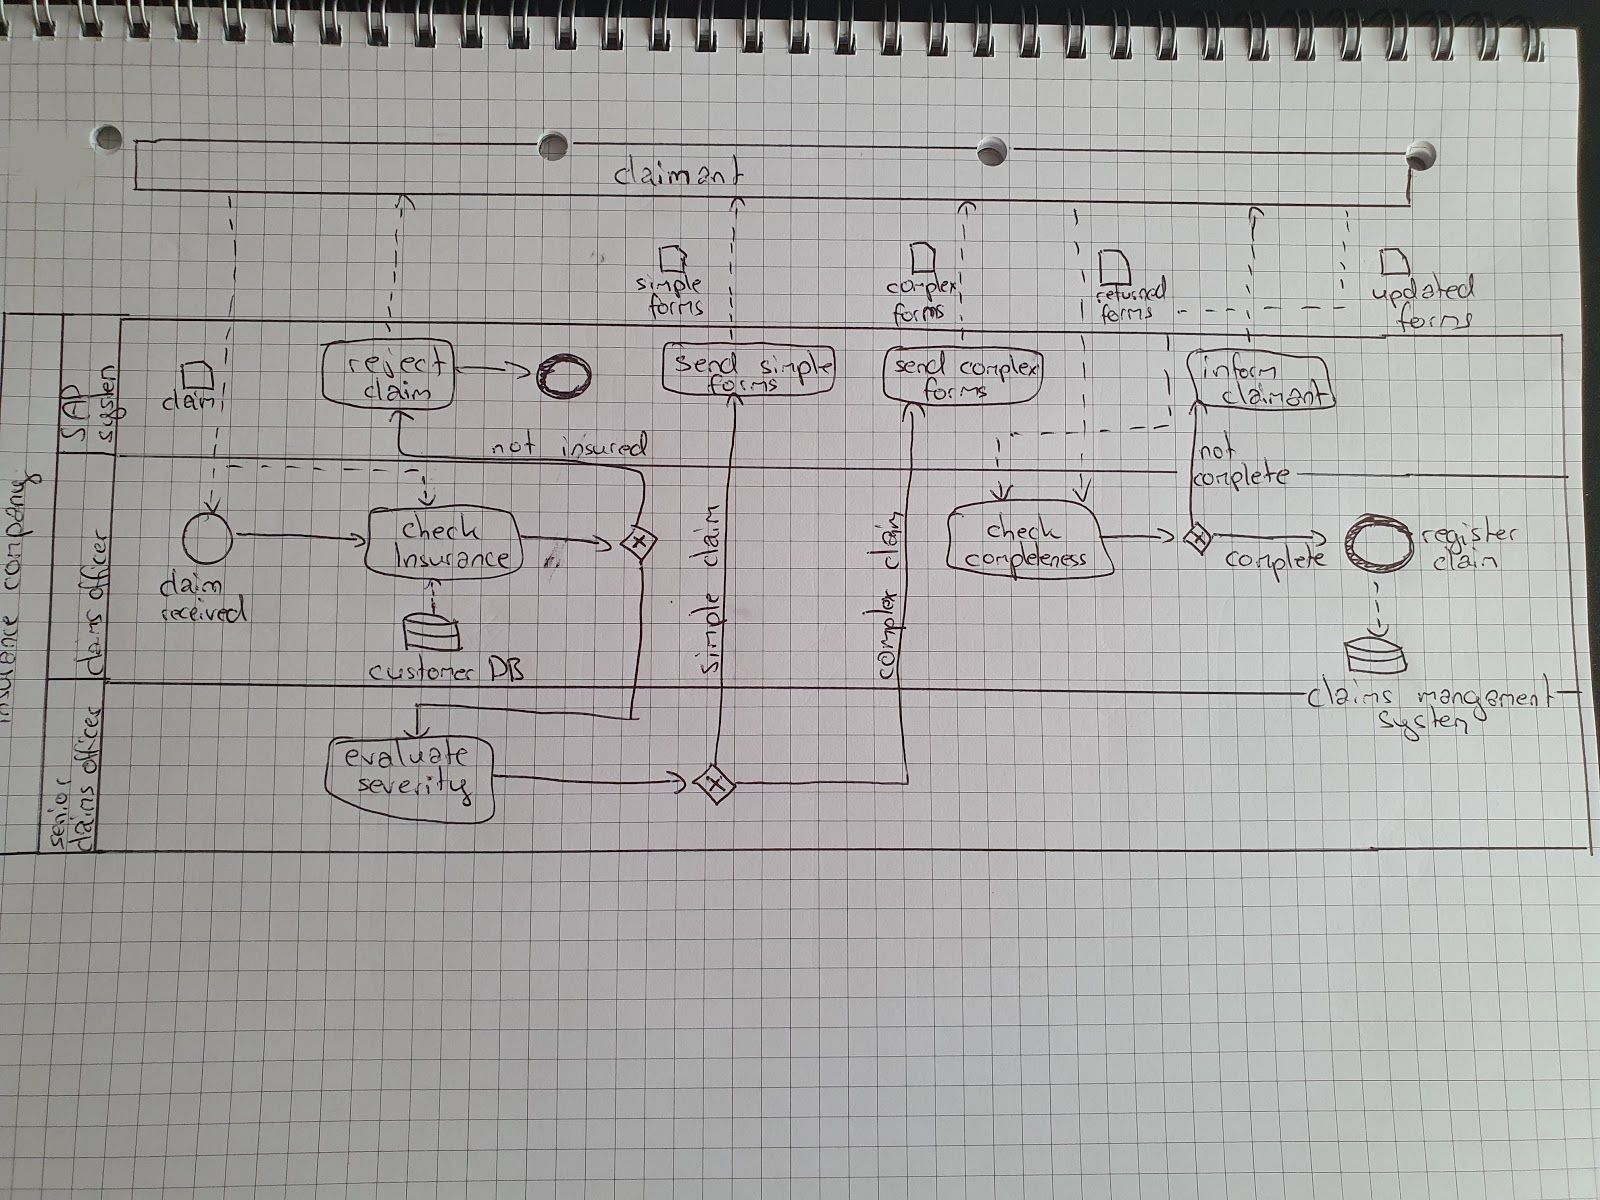DB: (488, 653, 520, 683)
Insurance: (391, 545, 517, 574)
SAP: (55, 381, 92, 445)
System: (1383, 708, 1482, 737)
check: (401, 512, 484, 545), (985, 513, 1067, 546)
claim: (692, 504, 726, 572), (362, 379, 438, 405), (872, 512, 905, 570), (1432, 550, 1500, 577), (159, 392, 224, 415), (164, 572, 226, 595)
claimant: (611, 158, 743, 192), (1220, 378, 1328, 408)
claims: (1303, 678, 1393, 712), (74, 604, 113, 676), (69, 785, 98, 850)
company: (1, 471, 42, 587)
complete: (1221, 545, 1327, 581), (1192, 463, 1293, 492)
completeness: (965, 545, 1091, 574)
complex: (871, 587, 903, 683), (959, 352, 1039, 386), (886, 274, 961, 299)
customer: (360, 657, 477, 684)
evaluate: (341, 741, 472, 773)
forms: (1393, 306, 1475, 334), (644, 294, 711, 321), (921, 378, 994, 403), (707, 372, 779, 397), (889, 299, 952, 326), (1095, 301, 1160, 324)
inform: (1196, 354, 1283, 381)
insurance: (1, 609, 18, 727)
insured: (554, 434, 651, 463)
mangement-: (1419, 676, 1574, 712)
not: (1198, 440, 1241, 466), (489, 434, 540, 455)
officer: (78, 522, 113, 600), (71, 707, 102, 774)
received: (160, 601, 249, 626)
register: (1410, 518, 1521, 550)
reject: (344, 348, 454, 379)
returned: (1094, 279, 1170, 308)
send: (675, 350, 740, 376), (892, 352, 949, 376)
senior: (48, 774, 71, 848)
severity: (354, 771, 477, 804)
simple: (690, 579, 729, 679), (757, 350, 837, 376), (634, 274, 706, 299)
system: (91, 366, 121, 442)
updated: (1374, 275, 1480, 308)
